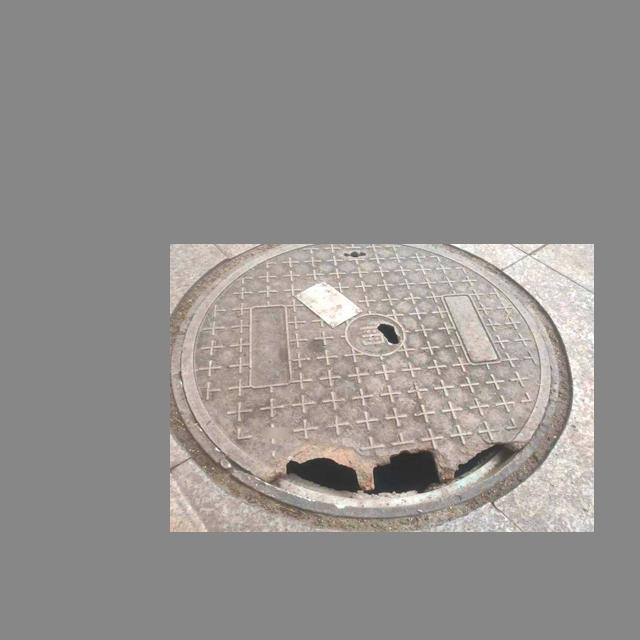broke: (170, 244, 559, 520)
